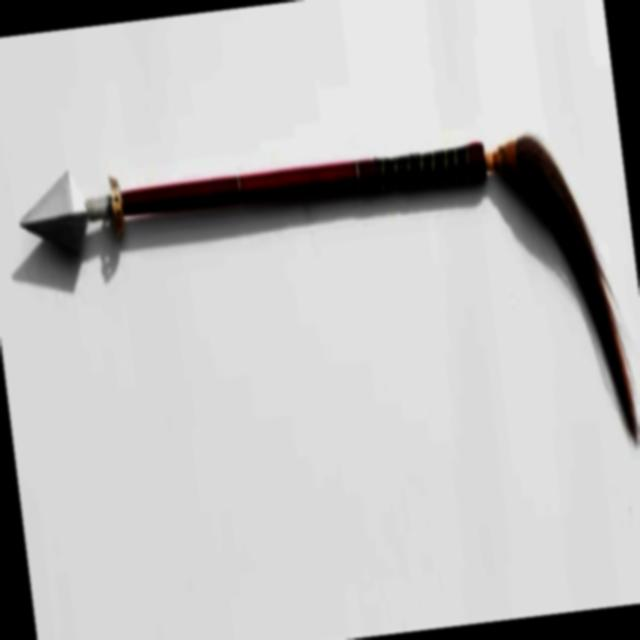spear: (4, 59, 640, 592)
